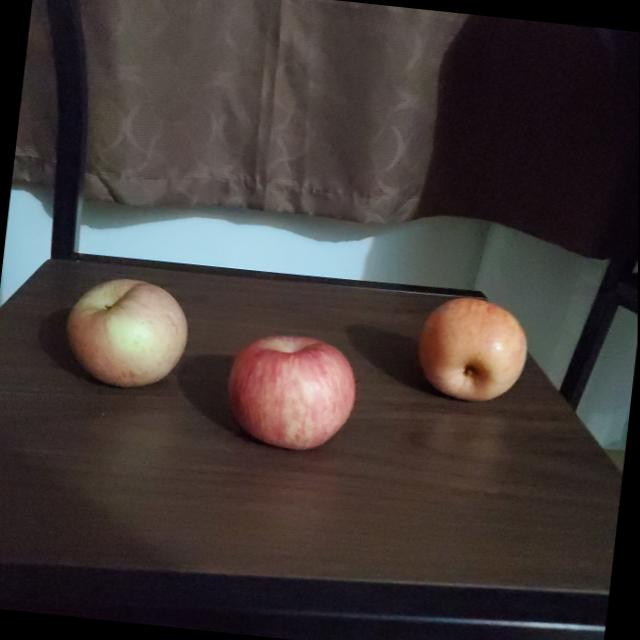apple: (223, 330, 362, 454), (62, 272, 193, 390), (416, 292, 534, 404)
